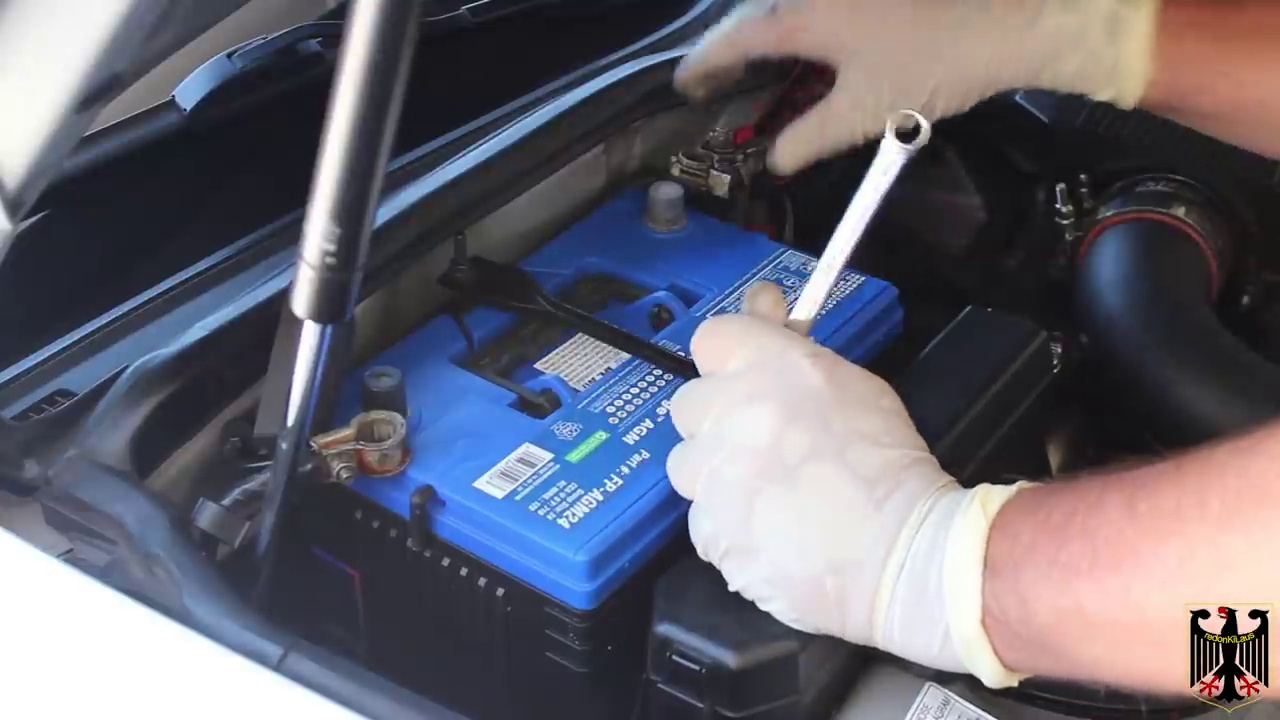battery: (252, 167, 905, 581)
